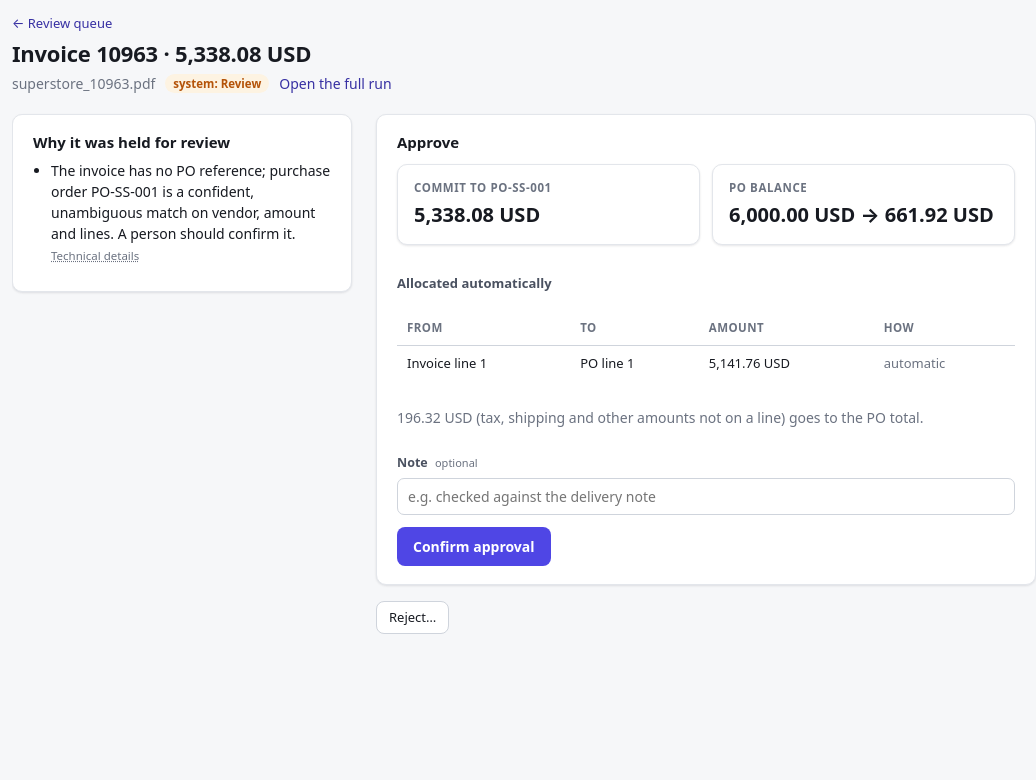
it: approving an item › all lines confident: one confirmation, the balance and the automatic allocation, and nothing to choose
The width and height of the screenshot is (1036, 780).
Expected: the heading "Allocated automatically" is shown, [397,274,552,292]
Expected: the text "6,000.00 USD → 661.92 USD" is shown, [729,200,998,230]
What coordinates should you click on to do the following:
click the button "Confirm approval"
I would click on:
 (474, 546)
Its box is [397,527,551,566].
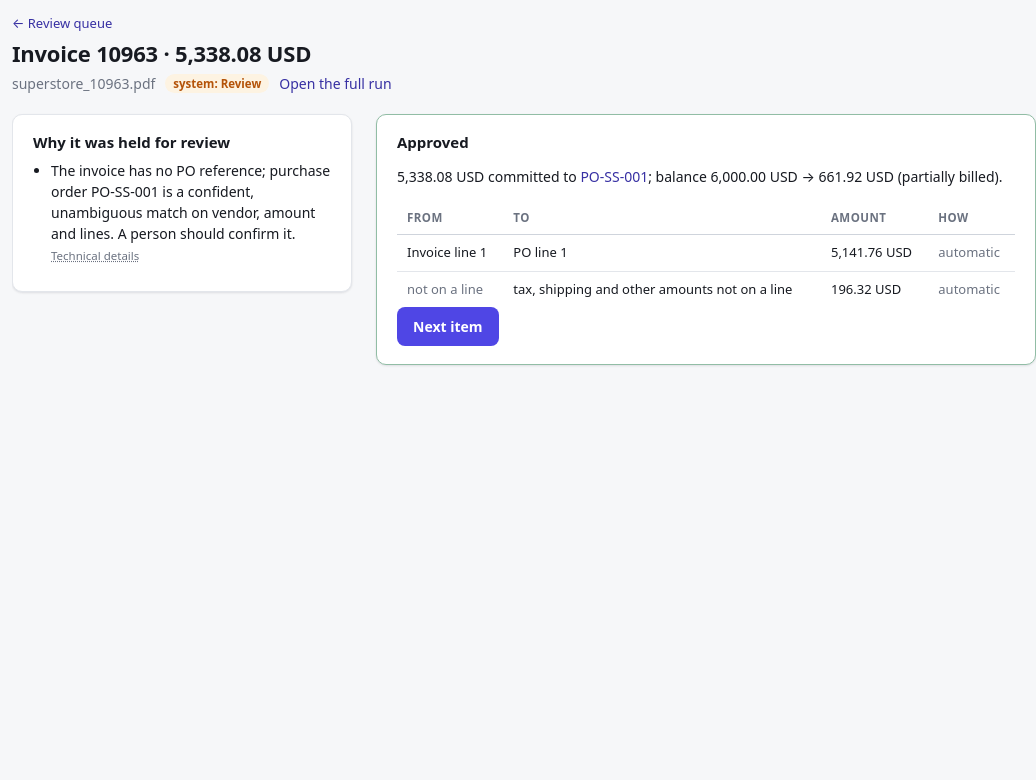
Expected: the heading "Approved" is shown, [397,132,469,152]
